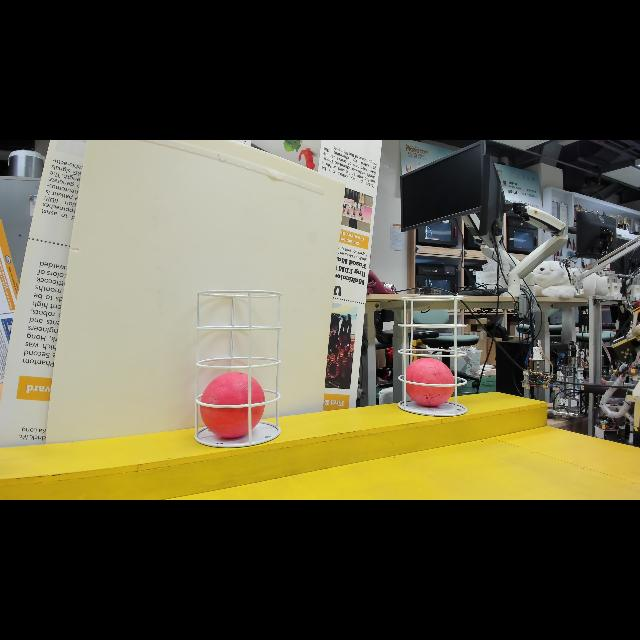R: (200, 370, 268, 440), (402, 355, 456, 409)
S: (192, 288, 282, 452), (396, 294, 472, 421)
